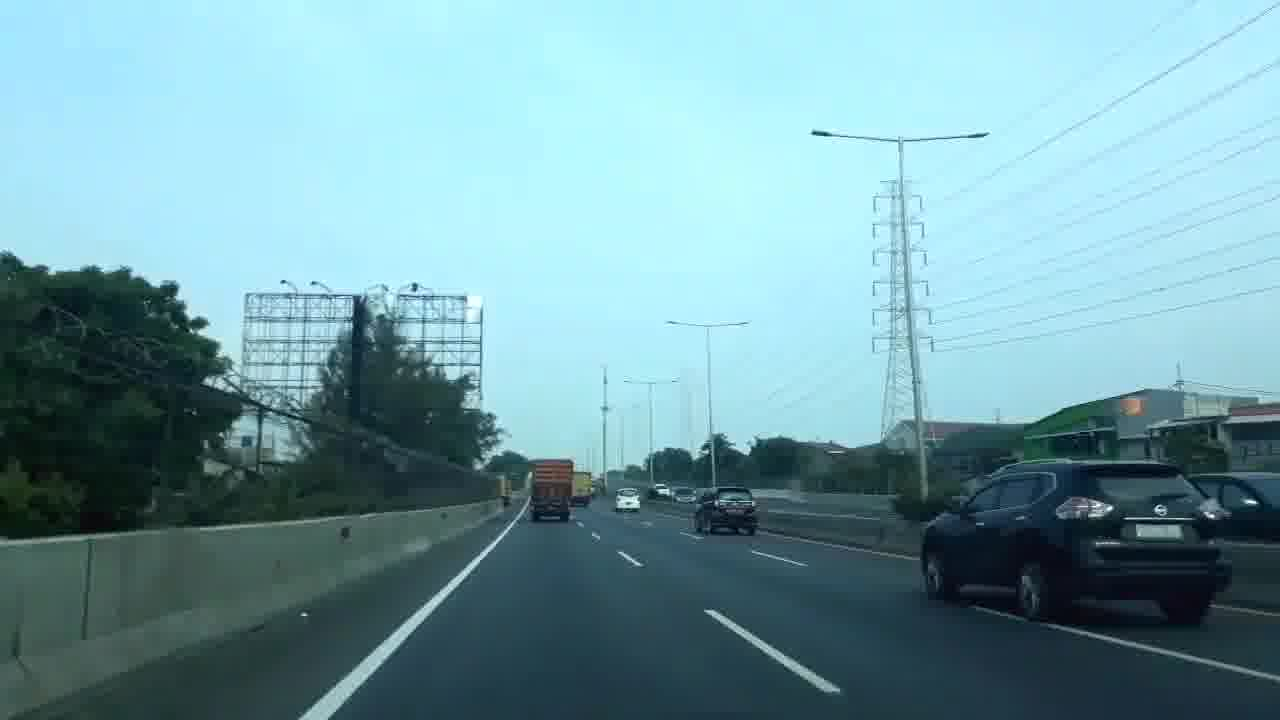plate_positive: (1135, 522, 1184, 542)
